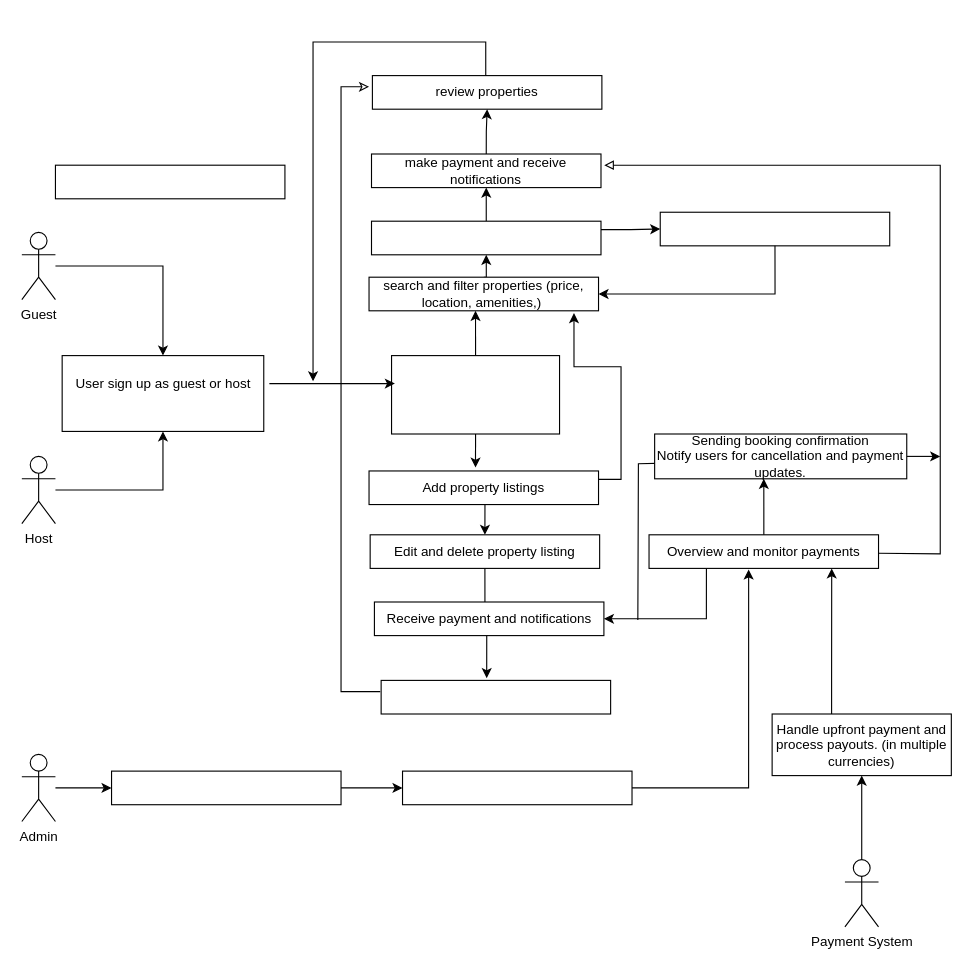
Some shapes in this 971 by 969 pixel diagram are drawn without their labels. Here are the shapes that lost their labels. From the top down, the centre of each, then its label:
At point 169,181: "Receives payouts".
At point 485,237: "Create and track booking".
At point 774,228: "Cancel booking".
At point 475,394: "Log in with email and password/ Update profile".
At point 495,696: "Respond to reviews".
At point 225,787: "Log in as admin".
At point 516,787: "Manage users, listings and other admins".
